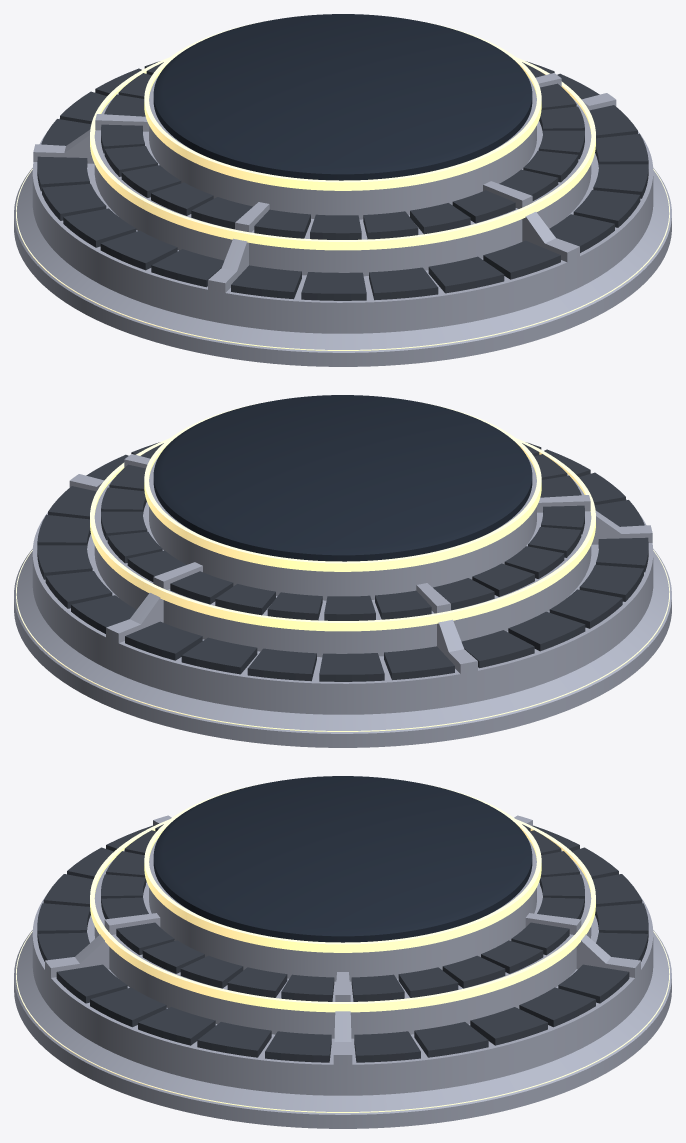
Rendered from energy_ring.glb.
3 renders of one model, top to bottom at view 1: azimuth 30°, elevation 25°; view 2: azimuth 150°, elevation 25°; view 3: azimuth 270°, elevation 25°, orthographic.
Parts seen in each view (by area): view 1: Gehaeuse, Core, Goldkante1, Goldkante2, Seg06, Seg05, Seg09, Seg07, Seg11, Seg08, Seg10, Seg12 (+26 smaller); view 2: Gehaeuse, Core, Goldkante1, Goldkante2, Seg18, Seg19, Seg15, Seg17, Seg13, Seg16, Seg14, Seg12 (+26 smaller); view 3: Gehaeuse, Core, Goldkante1, Goldkante2, Seg02, Seg22, Seg01, Seg23, Seg00, Seg24, Seg03, Seg21 (+27 smaller).
Part boxes in pixels (box(x1,y1,x2,y2)): Gehaeuse: box(14, 73, 671, 366); Core: box(153, 14, 532, 180); Goldkante1: box(90, 57, 595, 250); Goldkante2: box(144, 21, 541, 190); Seg06: box(428, 256, 504, 293); Seg05: box(483, 240, 560, 279); Seg09: box(231, 265, 301, 299); Seg07: box(369, 267, 438, 300); Seg11: box(100, 230, 177, 270); Seg08: box(301, 272, 366, 300); Seg10: box(151, 249, 224, 287); Seg12: box(63, 208, 136, 247); Gehaeuse: box(14, 454, 671, 747); Core: box(153, 395, 532, 561); Goldkante1: box(90, 438, 595, 631); Goldkante2: box(144, 402, 541, 571); Seg18: box(181, 637, 257, 674); Seg19: box(125, 621, 202, 660); Seg15: box(384, 646, 454, 680); Seg17: box(247, 648, 316, 681); Seg13: box(508, 611, 585, 651); Seg16: box(319, 653, 384, 681); Seg14: box(461, 630, 534, 668); Seg12: box(549, 589, 622, 628); Gehaeuse: box(14, 815, 671, 1128); Core: box(153, 776, 532, 942); Goldkante1: box(90, 819, 595, 1012); Goldkante2: box(144, 783, 541, 952); Seg02: box(138, 1007, 215, 1045); Seg22: box(470, 1007, 547, 1045); Seg01: box(197, 1022, 271, 1057); Seg23: box(414, 1022, 488, 1057); Seg00: box(265, 1031, 331, 1062); Seg24: box(354, 1031, 420, 1062); Seg03: box(90, 987, 166, 1027); Seg21: box(519, 987, 595, 1027).
Size of the model in its own units: 2.12 by 0.49 by 2.12.
